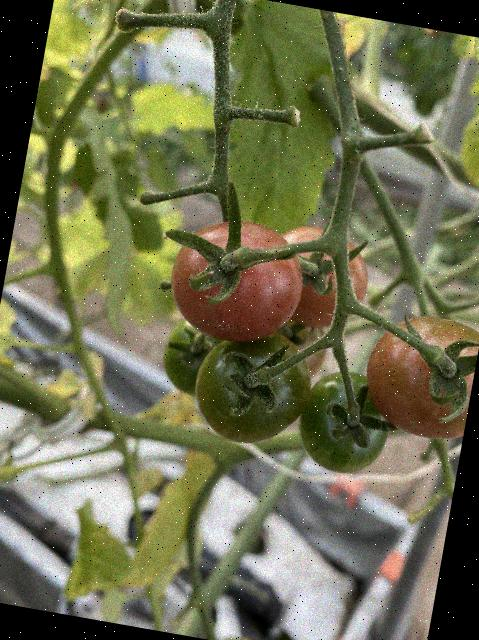l_fully_ripened: (159, 208, 312, 352), (263, 220, 376, 335)
l_green: (186, 319, 317, 453), (289, 362, 397, 479), (154, 315, 225, 399)
l_half_ripened: (356, 306, 479, 443)
